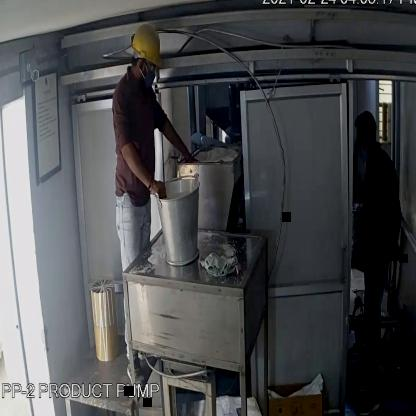helmet: (132, 23, 163, 63)
